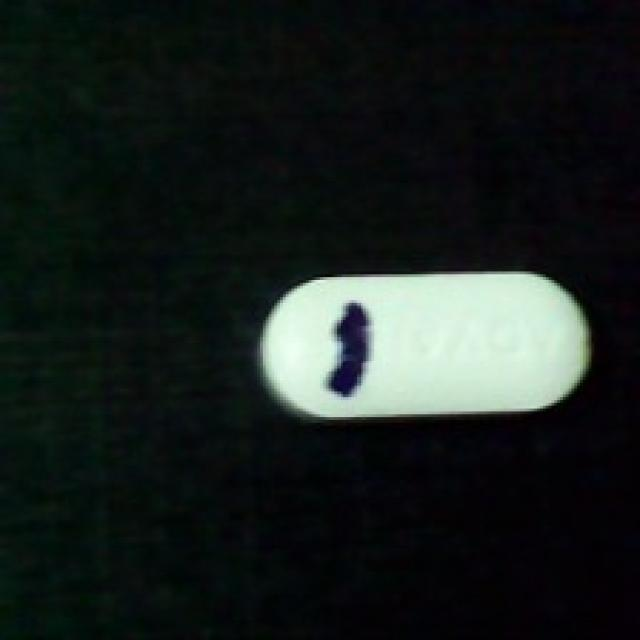defected: (254, 263, 594, 429)
